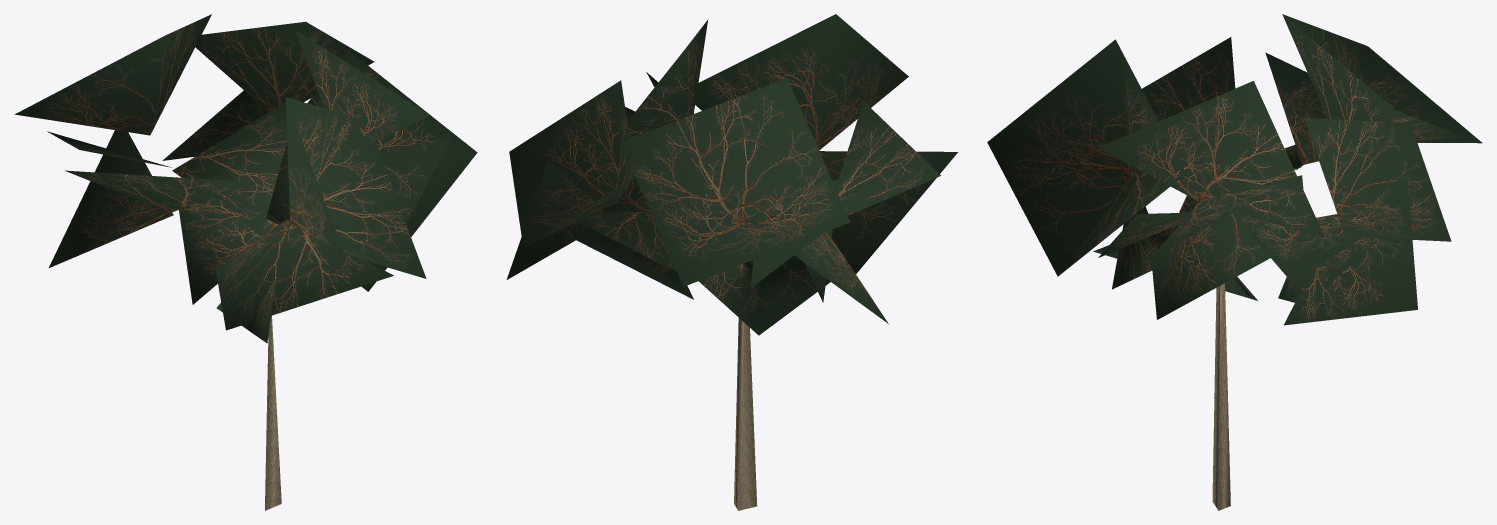
The model's file is decd_mapletreebranches_a1_l3.fbx.
The picture shows the model from 3 angles, left to right: view 1: azimuth 30°, elevation 25°; view 2: azimuth 150°, elevation 25°; view 3: azimuth 270°, elevation 25°; orthographic projection. The views are drawn at different scales.
Parts seen in each view (by area): view 1: mesh_node; view 2: mesh_node; view 3: mesh_node.
Part boxes in pixels (bbox=[...]): mesh_node: bbox=[14, 14, 477, 510]; mesh_node: bbox=[506, 14, 957, 510]; mesh_node: bbox=[987, 14, 1482, 510].
Size of the model in its own units: 15.69 by 18.7 by 18.41.
